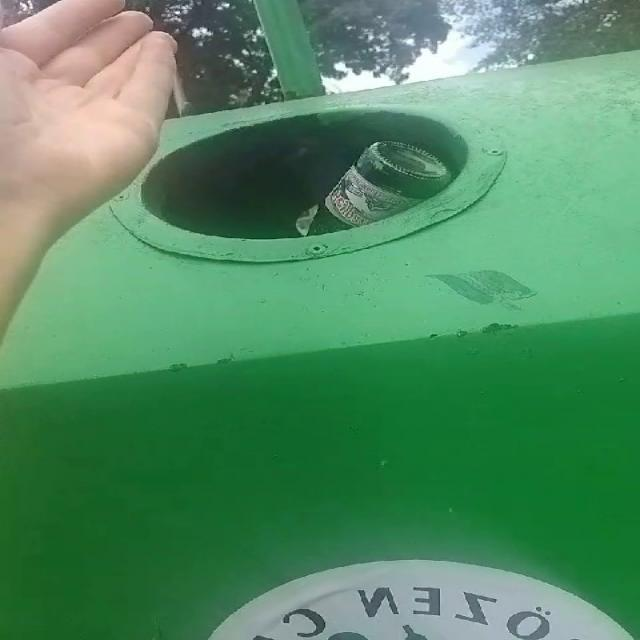Glass: (309, 142, 452, 234)
